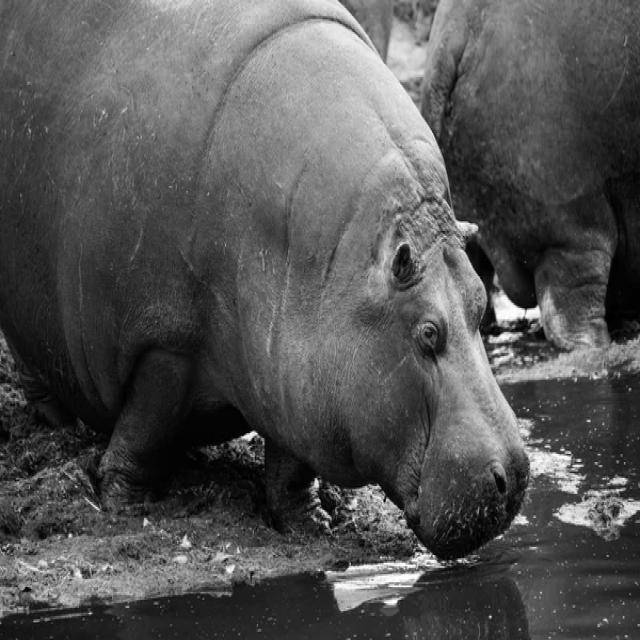Animal: (0, 0, 530, 558), (423, 1, 640, 349)
